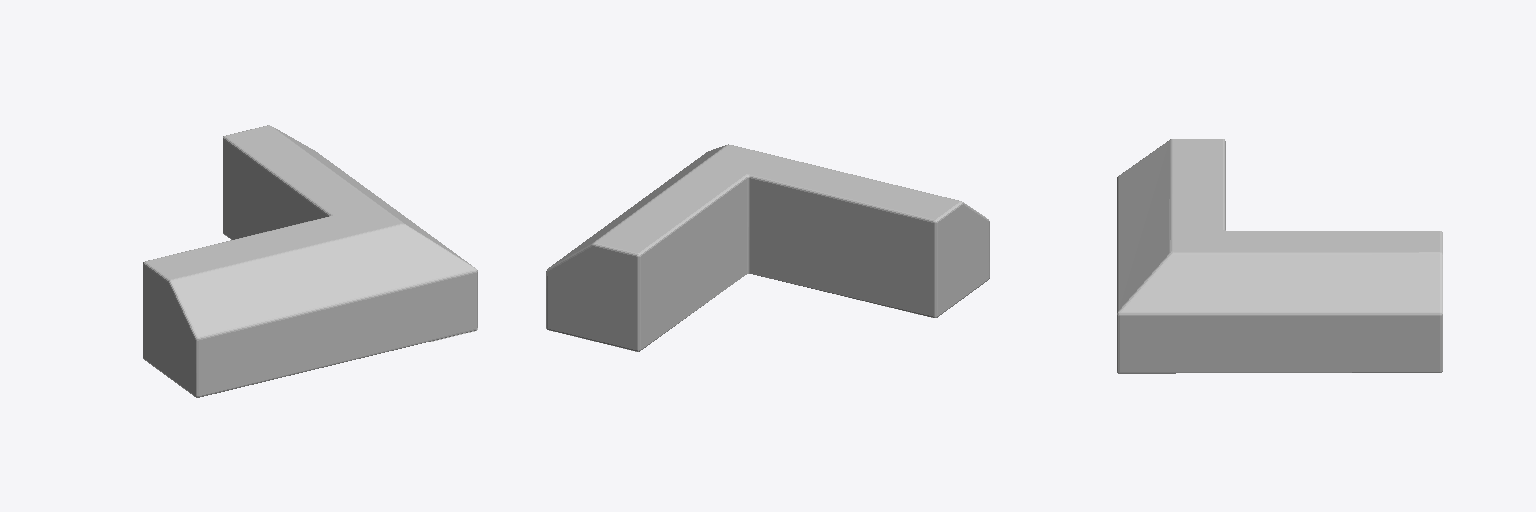
The model's file is Inside_Corner_Hp.obj.
3 views of the same model, side by side, from view 1: azimuth 30°, elevation 25°; view 2: azimuth 150°, elevation 25°; view 3: azimuth 270°, elevation 25° (orthographic).
Parts seen in each view (by area): view 1: Inside_Corner_HP; view 2: Inside_Corner_HP; view 3: Inside_Corner_HP.
Boxes of the visible parts, x1,y1,x2,y2 form: Inside_Corner_HP: [143, 125, 477, 397]; Inside_Corner_HP: [546, 144, 989, 351]; Inside_Corner_HP: [1117, 139, 1442, 373].
Bounding box in the file's own units: 3 × 1 × 3.